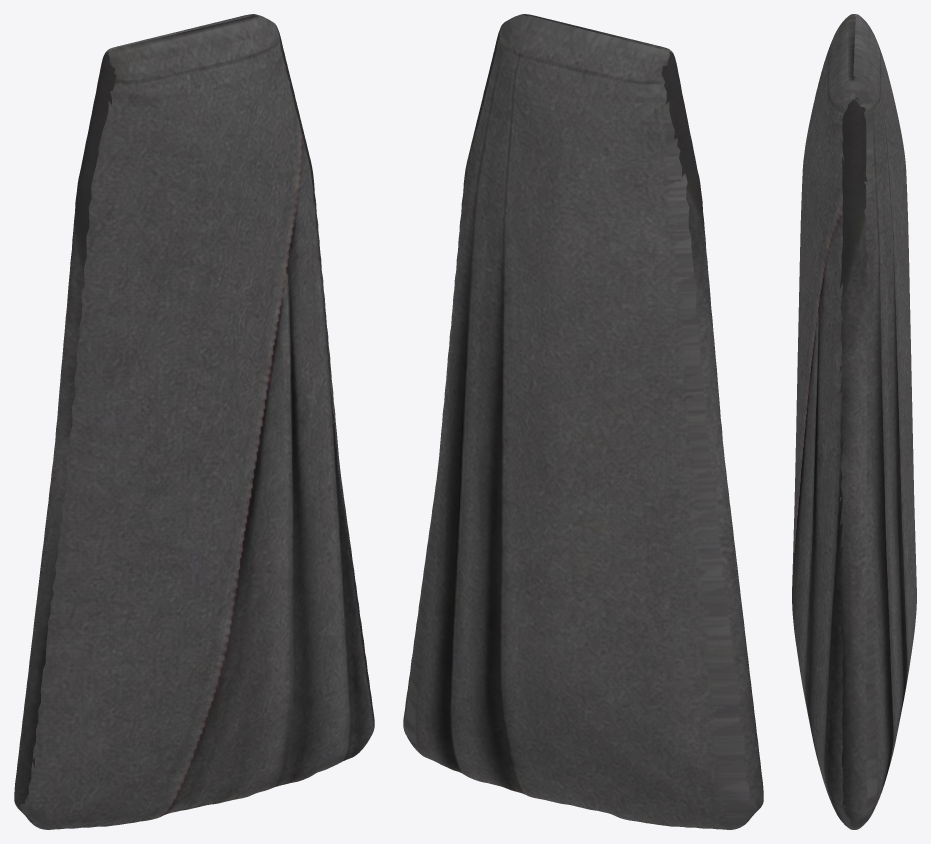
File: NF021-fit-v5.glb
3 views of the same model, side by side, from view 1: azimuth 30°, elevation 25°; view 2: azimuth 150°, elevation 25°; view 3: azimuth 270°, elevation 25° (orthographic). The views are drawn at different scales.
Parts seen in each view (by area): view 1: NF021_worn_photo_fitted; view 2: NF021_worn_photo_fitted; view 3: NF021_worn_photo_fitted.
Part boxes in pixels (box(x1,y1,x2,y2)): NF021_worn_photo_fitted: box(14, 14, 374, 829); NF021_worn_photo_fitted: box(403, 14, 763, 829); NF021_worn_photo_fitted: box(792, 14, 916, 829).
Bounding box in the file's own units: 0.3886 × 0.8062 × 0.1268.
3 materials, 3 textured.
